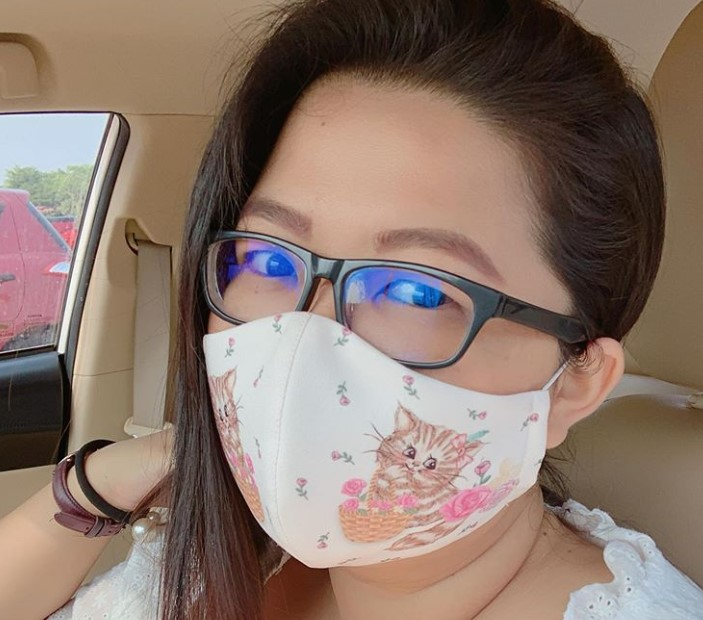face_with_mask: (190, 5, 668, 574)
